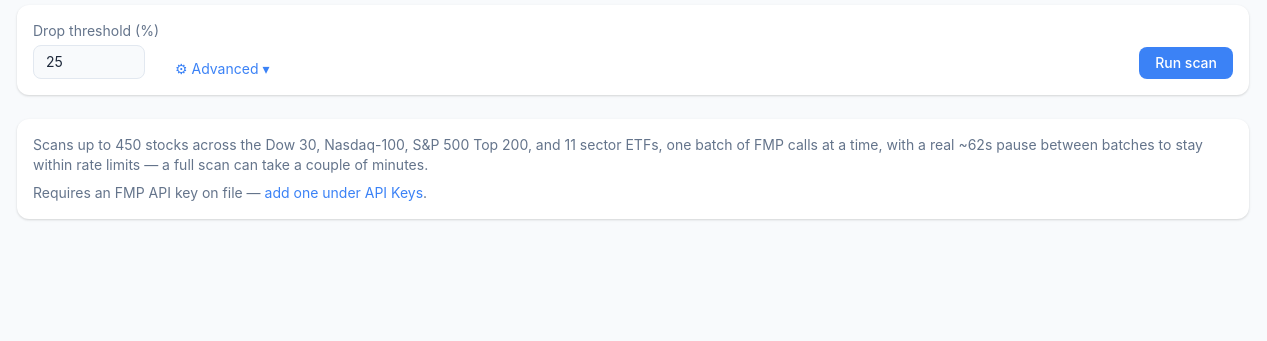
Test: ContrarianFinderPage › Advanced panel is collapsed by default, showing the confirmed defaults once opened
Check: the text "Scan window" is not shown
What coordinates should you click on to do the following:
click the button "⚙ Advanced ▾"
I would click on:
 (222, 69)
Its box is [175,59,269,79].
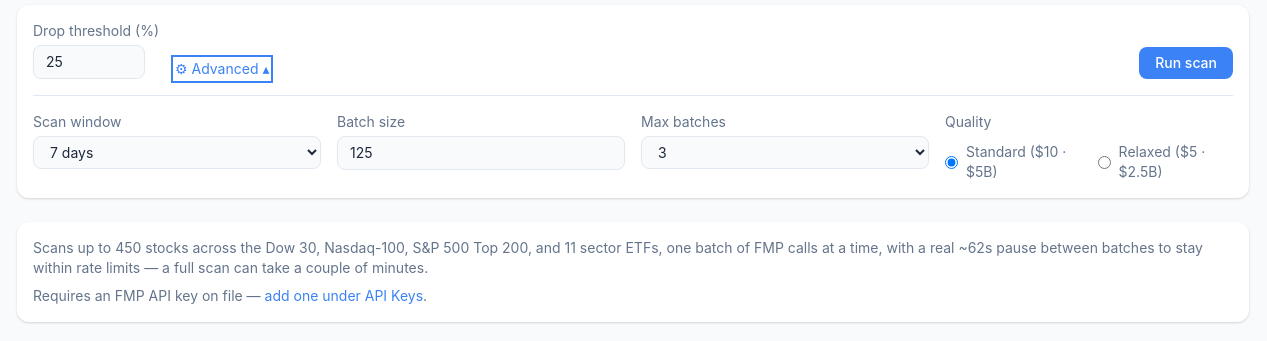
Check: the text "Scan window" is shown, box [33,112,321,182]
Check: the dropdown labelled "Scan window" shows "7 days", box [33,136,321,169]
Check: the number field labelled "Batch size" holds "125", box [337,136,625,170]
